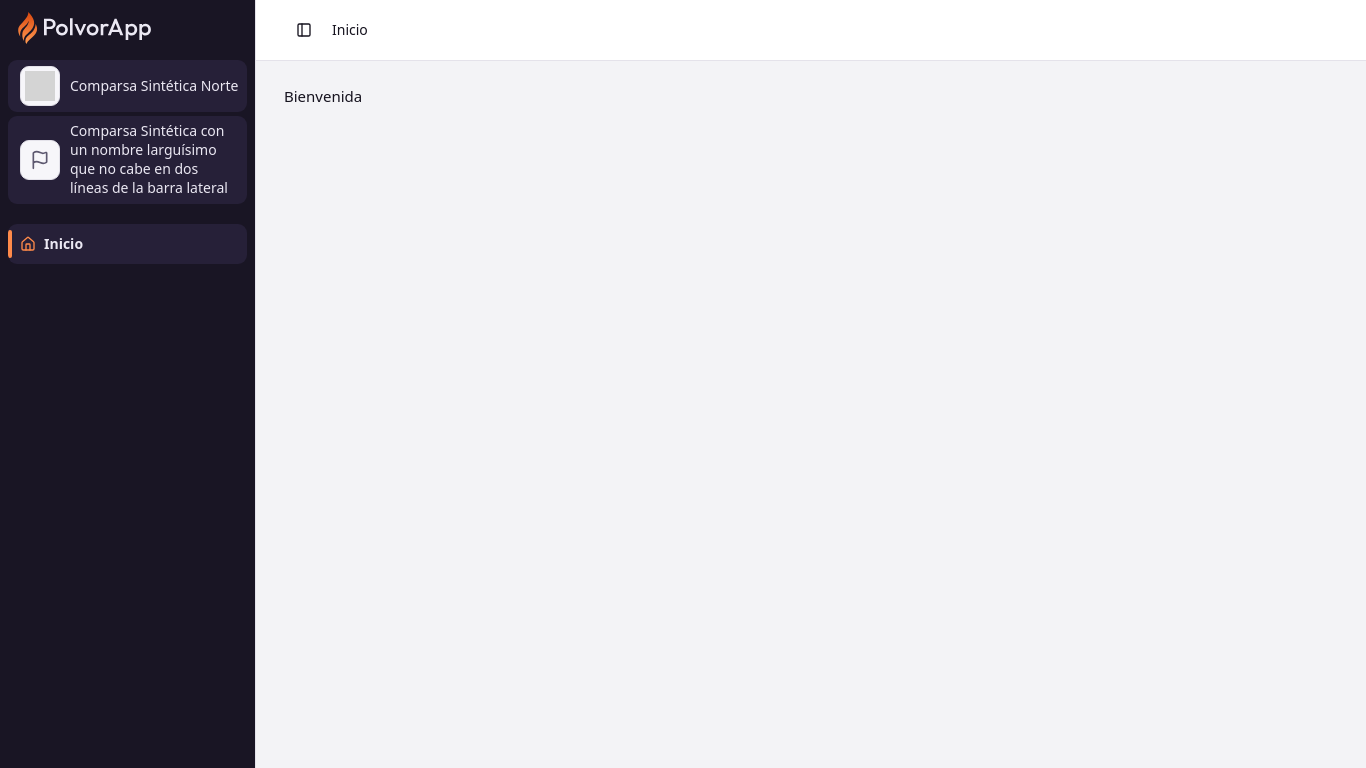
Scenario: AppLayout sidebar cards (platform: Application shell) › opens the comparsa when a card is chosen
Step 1. Click the link "Comparsa Sintética Norte" → (128, 86), box [8,60,247,112]
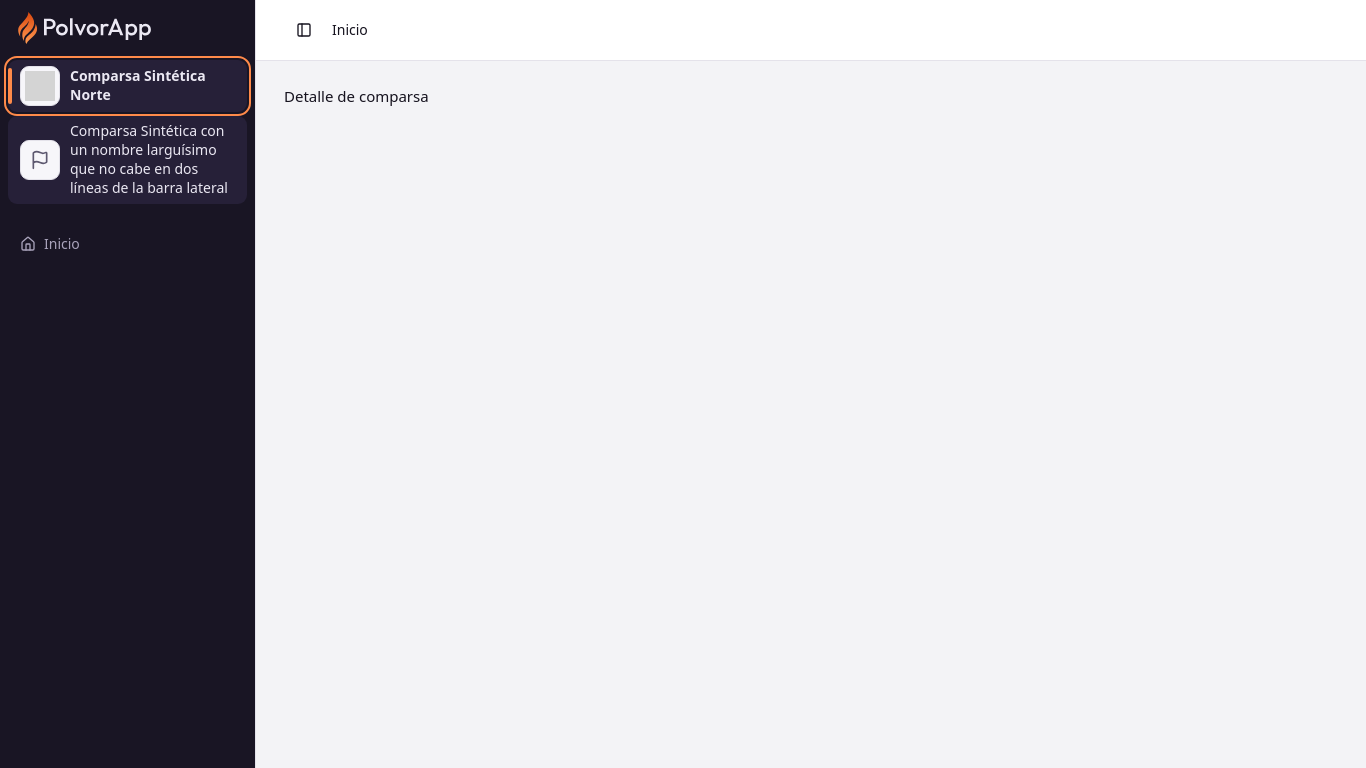
Check: the heading "Detalle de comparsa" is shown, box [284,86,429,106]
